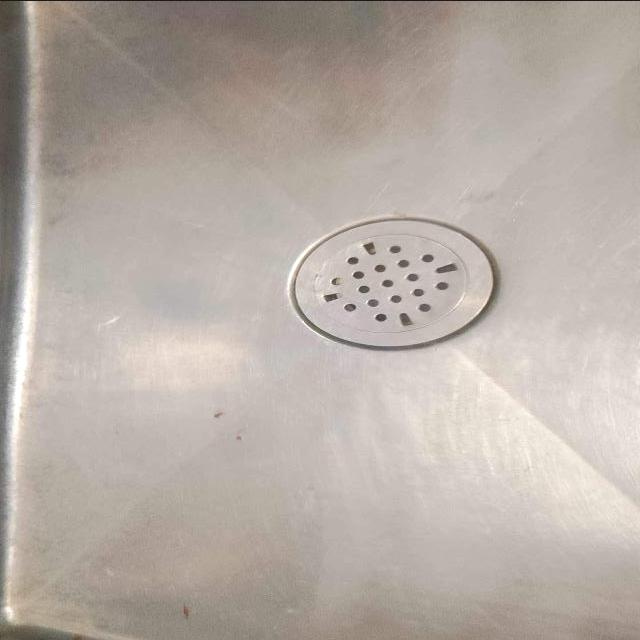Pathological: (2, 3, 637, 639)
Sharps: (285, 215, 497, 351)
